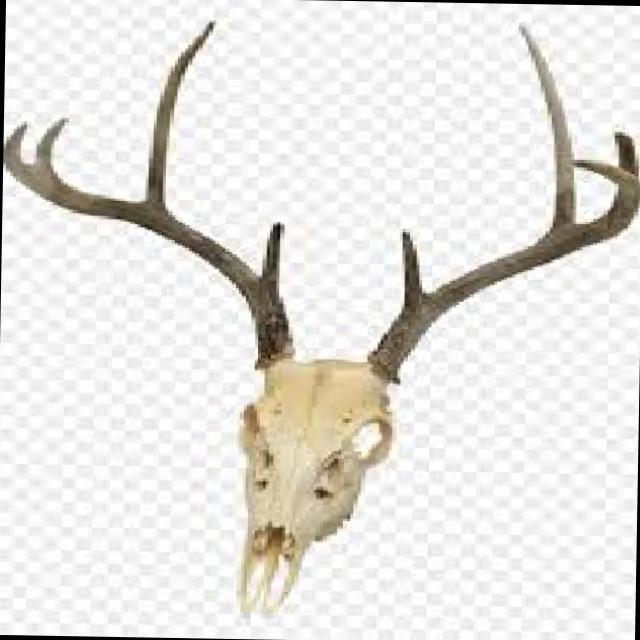L-F: (365, 158, 640, 385)
L-G1: (397, 227, 425, 308)
L-G2: (516, 20, 577, 232)
R-F: (3, 120, 299, 371)
R-G1: (260, 219, 286, 290)
R-G2: (141, 18, 218, 210)
R-G3: (33, 117, 70, 169)
